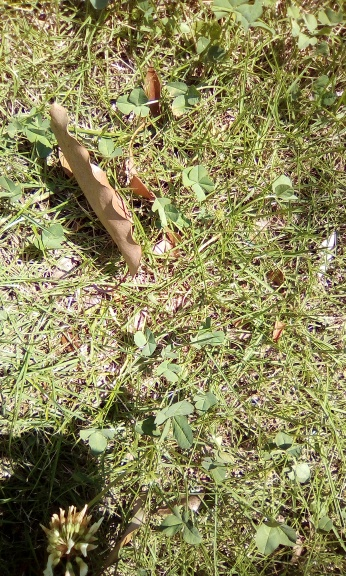4leaf: (181, 165, 215, 202)
